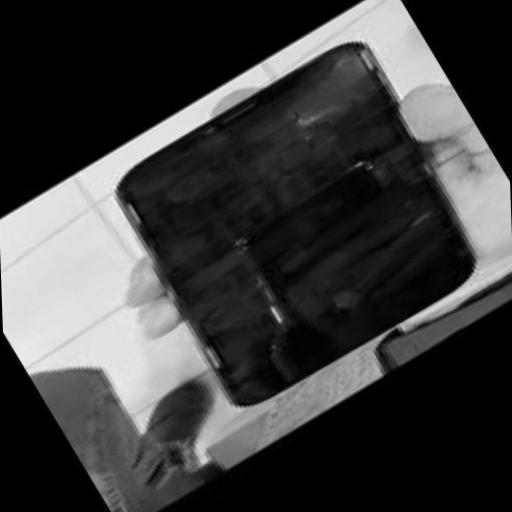phone: (116, 41, 473, 404)
